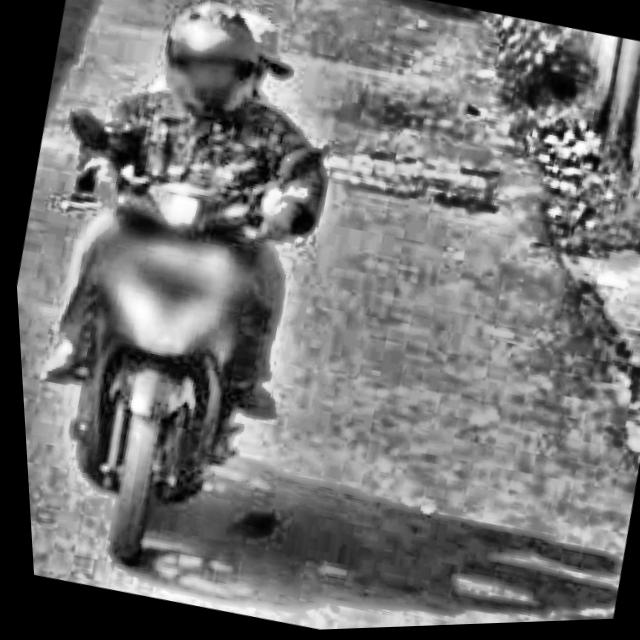motorcycle: (4, 77, 369, 603)
